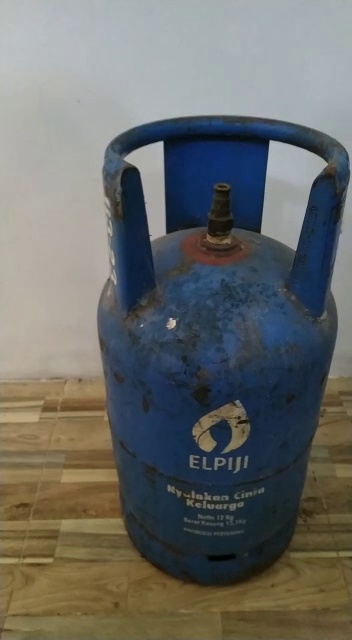blue_gas: (98, 114, 351, 589)
